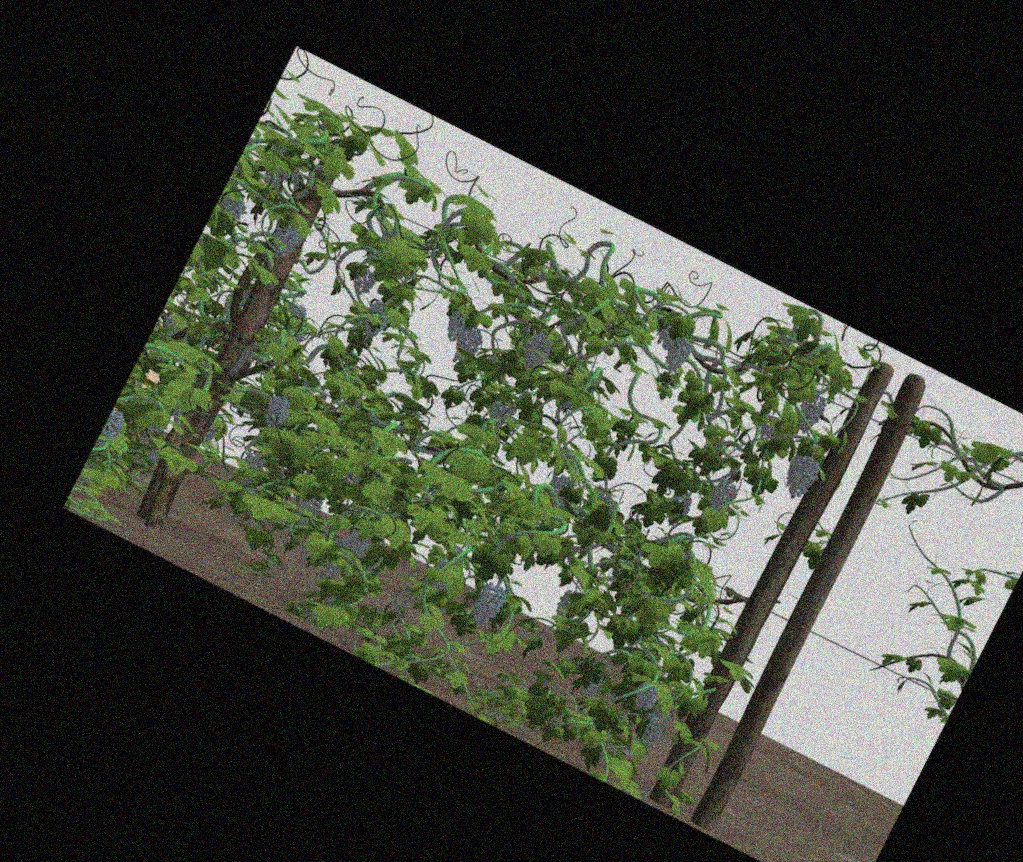grape: (785, 457, 812, 497), (475, 584, 500, 625), (272, 222, 299, 257), (523, 334, 548, 369), (265, 393, 289, 427), (799, 395, 820, 432), (364, 302, 387, 335), (711, 479, 734, 511), (339, 531, 369, 555), (104, 411, 122, 446), (668, 337, 688, 368), (459, 326, 480, 355), (446, 309, 465, 341), (642, 716, 661, 747), (635, 682, 655, 711), (353, 270, 373, 295), (658, 325, 677, 349), (289, 304, 306, 319)
